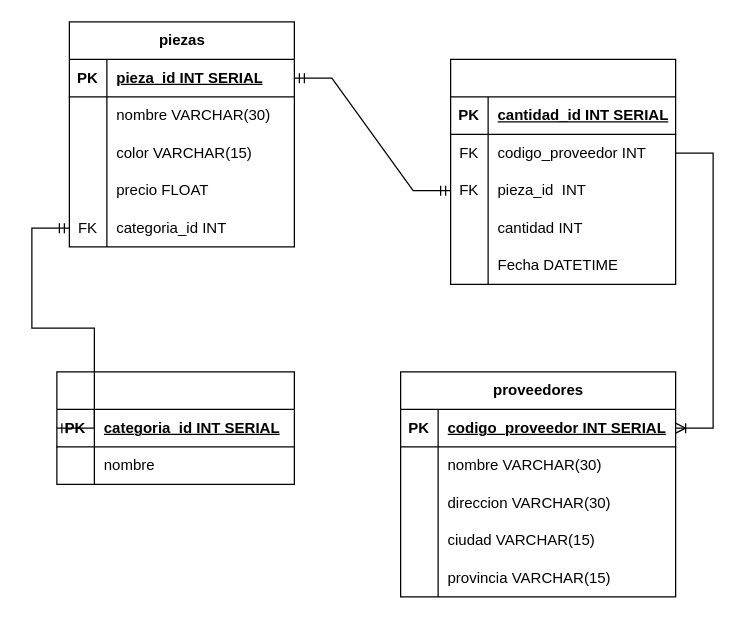
This 745x619 diagram has some shape labels left out. The box of each missing label's shape, as (x1, y1, x2, y2) in pixels:
cantidad_x_pieza: (449, 58, 676, 284)
categorias: (56, 371, 294, 484)
